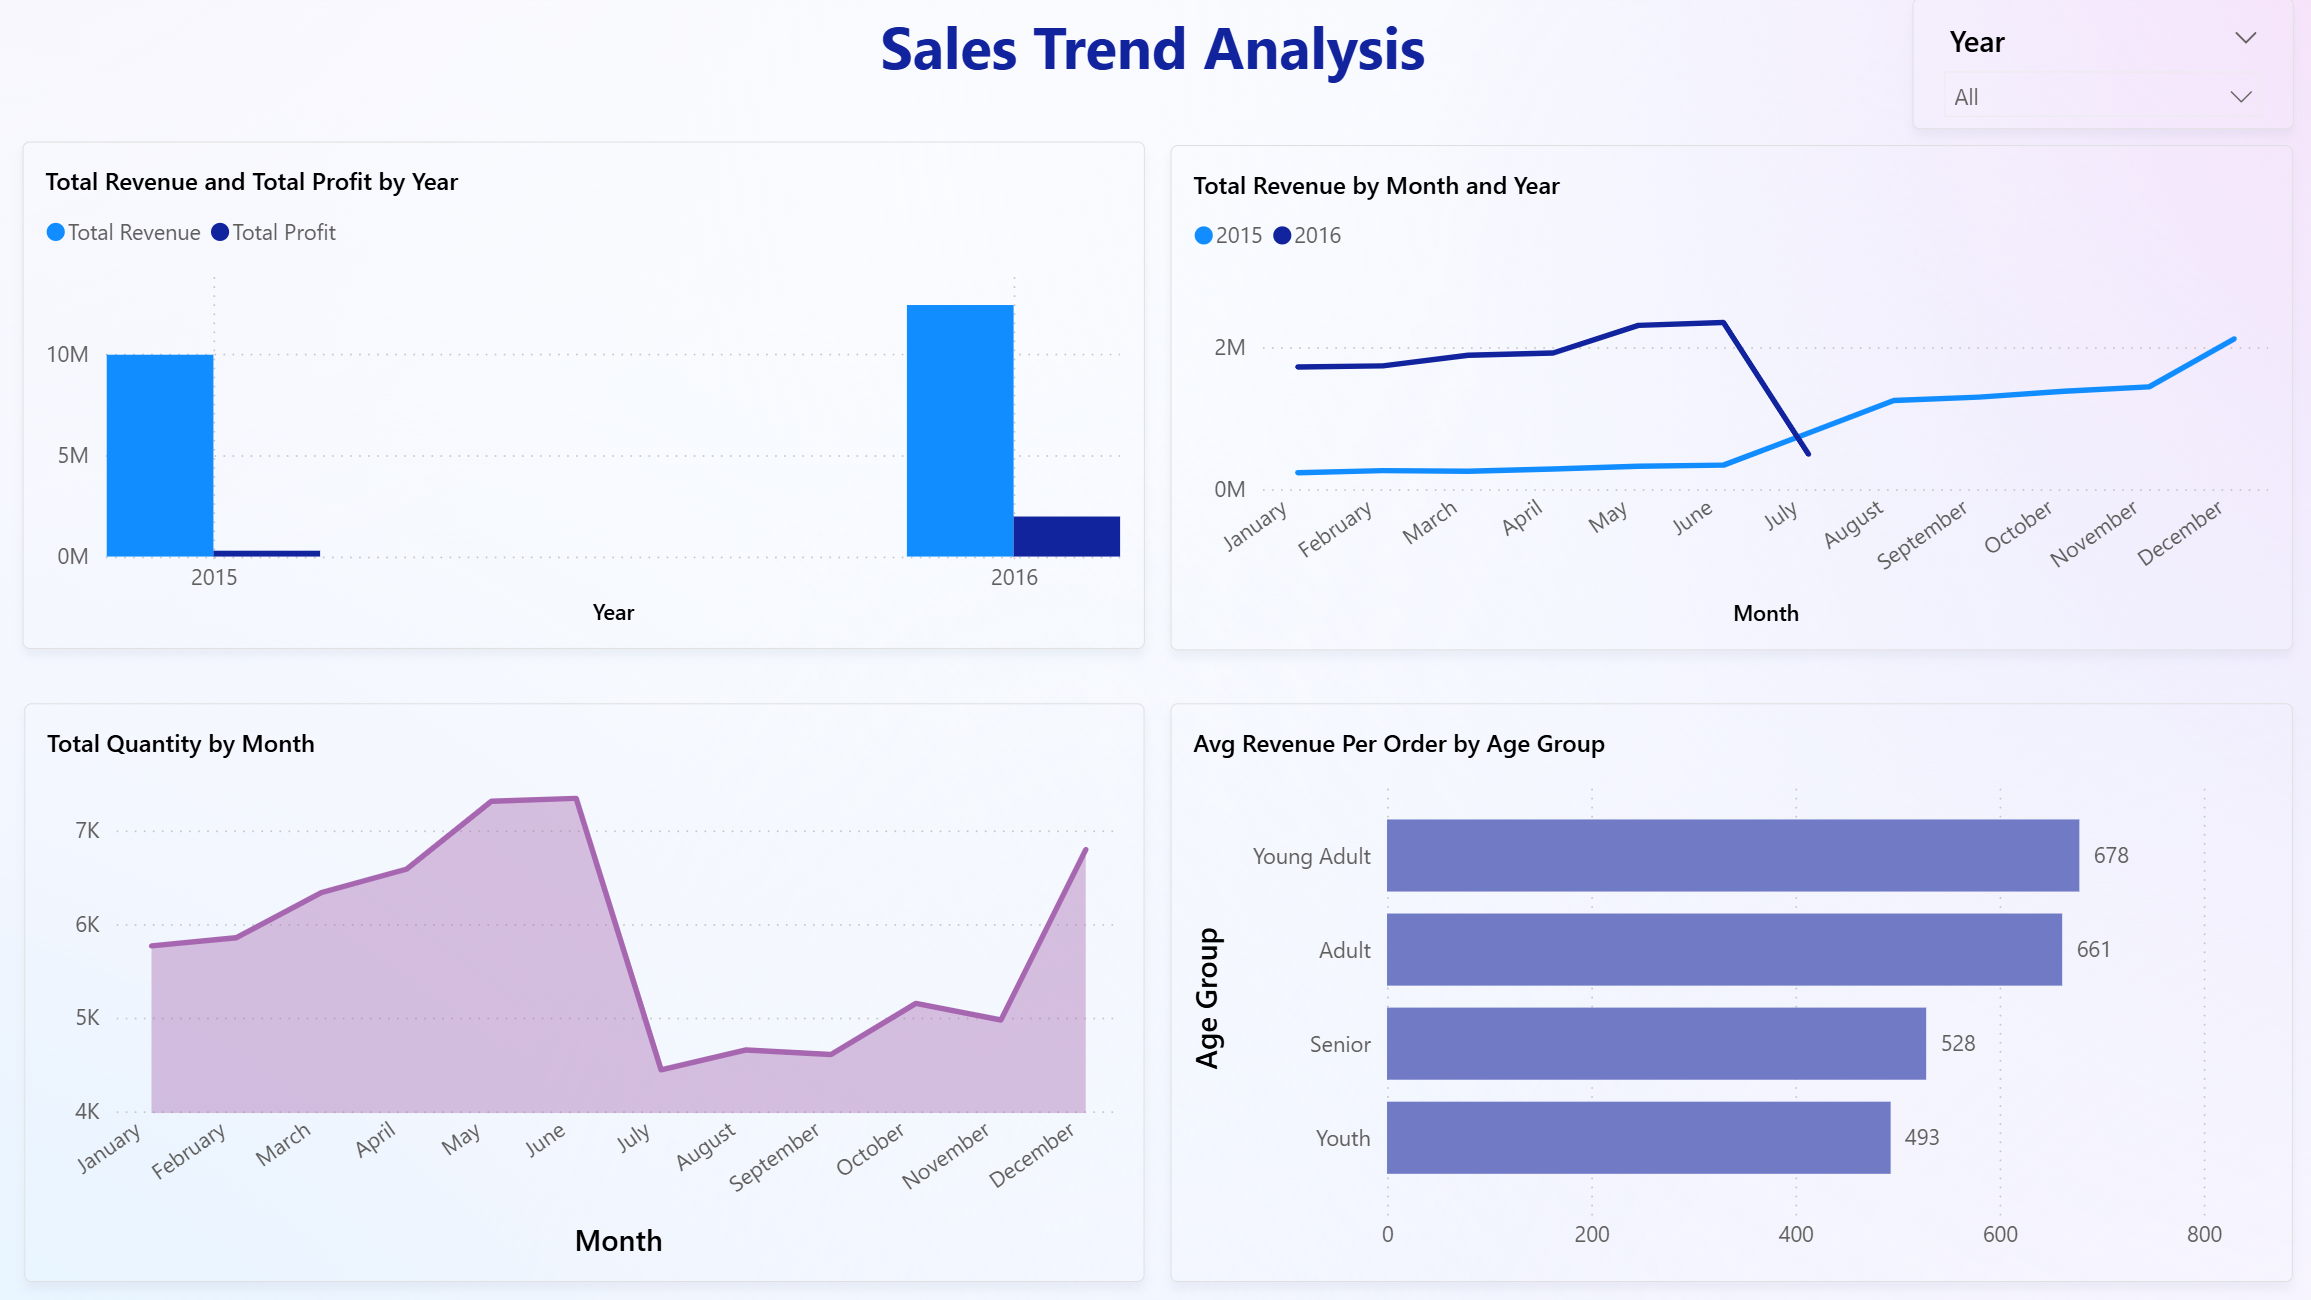

Layout of this report page (visuals, bound fields, positions):
{"tool":"powerbi","page":{"name":"Trend Analysis","canvas":[1280,720],"ordinal":1},"visuals":[{"type":"textbox","box":[483.1,0,332.3,56.4],"z":0},{"type":"clusteredColumnChart","fields":{"Category":["salesforcourse-4fe2kehu.Year"],"Y":["salesforcourse-4fe2kehu.Total Revenue","salesforcourse-4fe2kehu.Total Profit"]},"box":[13.5,79.7,620.4,280.8],"z":1000},{"type":"lineChart","fields":{"Category":["salesforcourse-4fe2kehu.Month"],"Y":["salesforcourse-4fe2kehu.Total Revenue"],"Series":["salesforcourse-4fe2kehu.Year"]},"box":[648.6,80.9,620.4,279.5],"z":2000},{"type":"areaChart","fields":{"Category":["salesforcourse-4fe2kehu.Month"],"Y":["salesforcourse-4fe2kehu.Total Quantity"]},"box":[14.7,389.9,619.2,320],"z":3000},{"type":"clusteredBarChart","fields":{"Category":["salesforcourse-4fe2kehu.Age Group"],"Y":["salesforcourse-4fe2kehu.Avg Revenue Per Order"]},"box":[648.6,389.9,620.4,320],"z":4000},{"type":"slicer","fields":{"Values":["salesforcourse-4fe2kehu.Year"]},"box":[1058.1,0,210.9,72.3],"z":5000}]}

Visuals, with their boxes in screenshot pixels (x1, y1, x2, y2), scaled from the page's 1280x720 canvas onto the 2311x1300 screenshot:
textbox: 872, 0, 1472, 102
clusteredColumnChart - salesforcourse-4fe2kehu.Year x salesforcourse-4fe2kehu.Total Revenue: 24, 144, 1144, 651
lineChart - salesforcourse-4fe2kehu.Month x salesforcourse-4fe2kehu.Total Revenue: 1171, 146, 2291, 651
areaChart - salesforcourse-4fe2kehu.Month x salesforcourse-4fe2kehu.Total Quantity: 27, 704, 1144, 1282
clusteredBarChart - salesforcourse-4fe2kehu.Age Group x salesforcourse-4fe2kehu.Avg Revenue Per Order: 1171, 704, 2291, 1282
slicer - salesforcourse-4fe2kehu.Year: 1910, 0, 2291, 131
